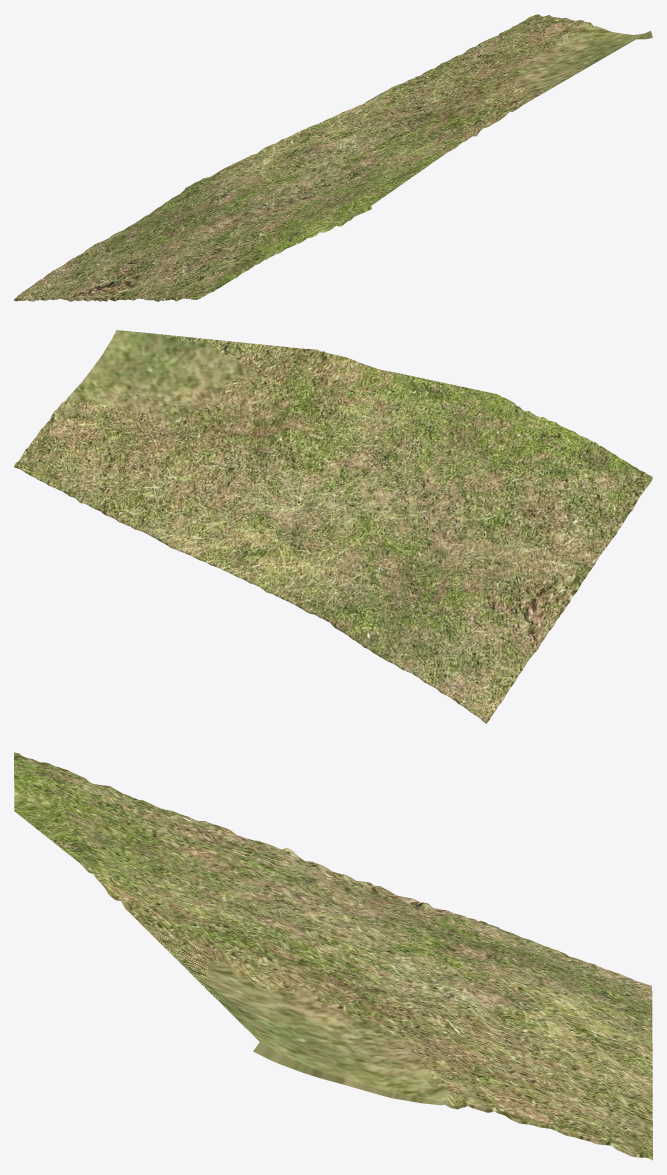
3 views of the same model, one above another, from view 1: azimuth 30°, elevation 25°; view 2: azimuth 150°, elevation 25°; view 3: azimuth 270°, elevation 25° (orthographic). The views are drawn at different scales.
Visible parts, largest first — view 1: node_199; view 2: node_199; view 3: node_199.
Boxes of the visible parts, left/top/right/bottom form: node_199: left=14, top=14, right=652, bottom=301; node_199: left=14, top=330, right=652, bottom=723; node_199: left=14, top=752, right=652, bottom=1160.
Bounding box in the file's own units: 8.98 × 3.7 × 5.49.
Materials: 1 (1 with a texture image).
